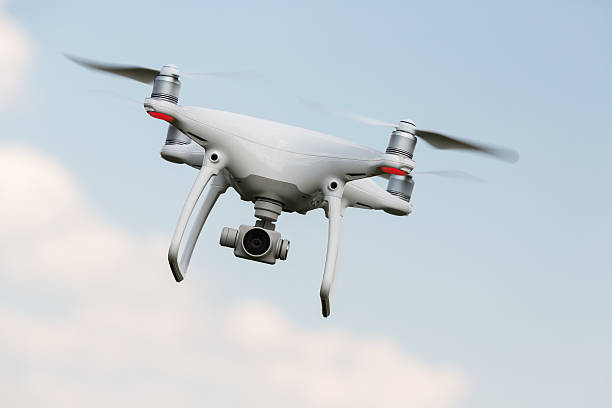Drone: (60, 45, 522, 324)
